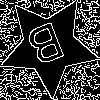B: (24, 21, 70, 76)
